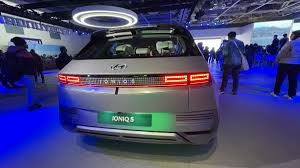Honda Ioniq: (54, 20, 225, 152)
